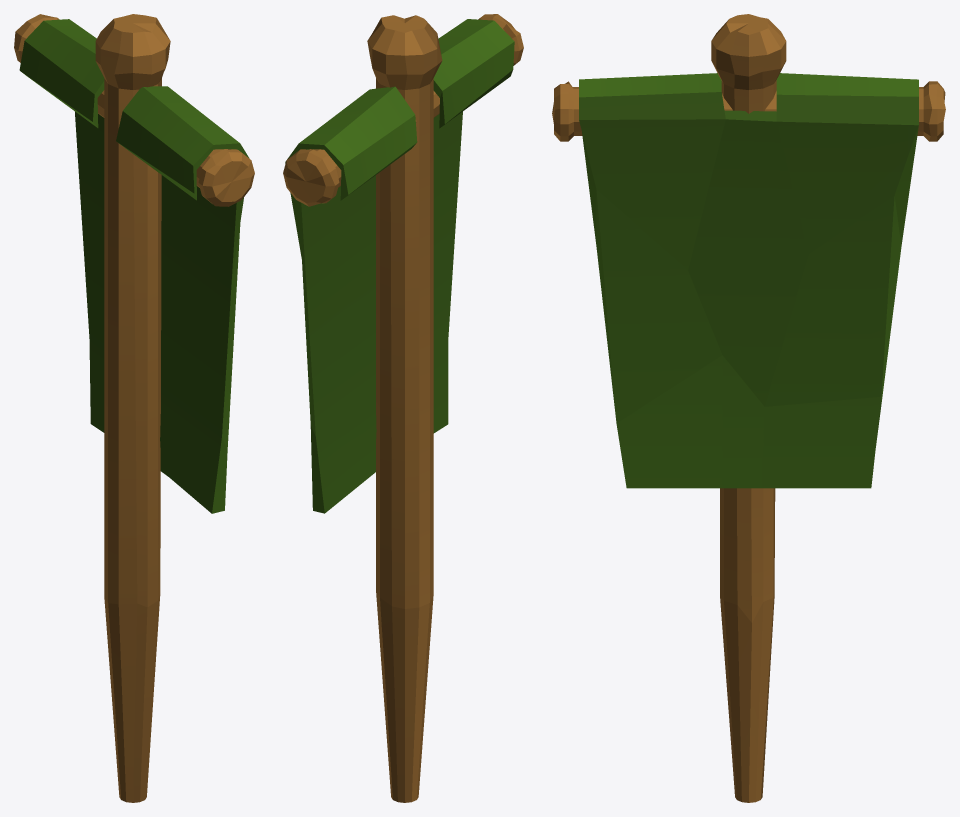
File: small sign.fbx
The picture shows the model from 3 angles, left to right: view 1: azimuth 30°, elevation 25°; view 2: azimuth 150°, elevation 25°; view 3: azimuth 270°, elevation 25°; orthographic projection.
Parts seen in each view (by area): view 1: garden_sign; view 2: garden_sign; view 3: garden_sign.
Part boxes in pixels (x1=…): garden_sign: x1=14, y1=14, x2=254, y2=802; garden_sign: x1=283, y1=14, x2=523, y2=802; garden_sign: x1=552, y1=14, x2=945, y2=802.
Size of the model in its own units: 25.1 by 276 by 128.
